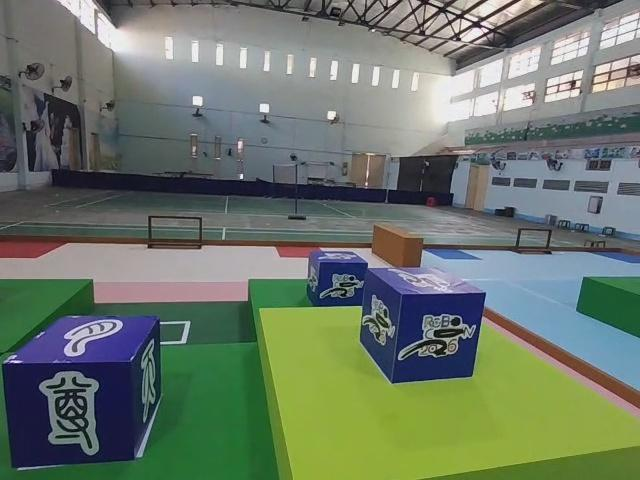R1 Blue: (359, 268, 485, 387), (308, 250, 370, 307)
R2 Fake Blue: (1, 313, 161, 469)
